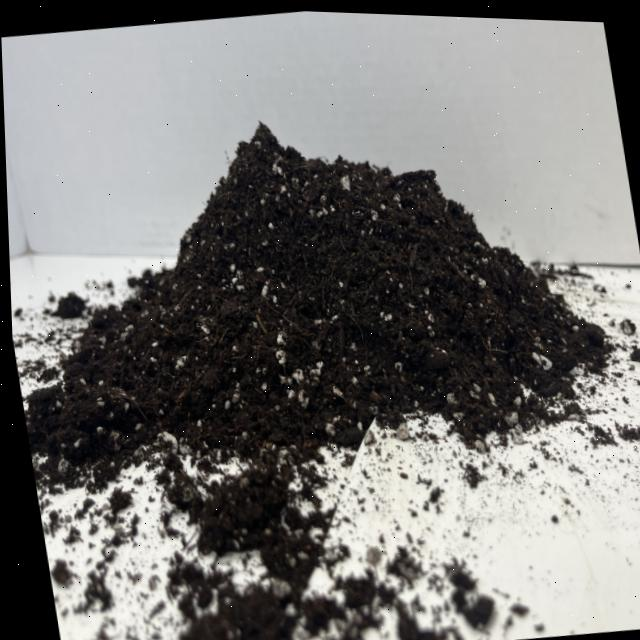soil: (3, 68, 631, 520)
